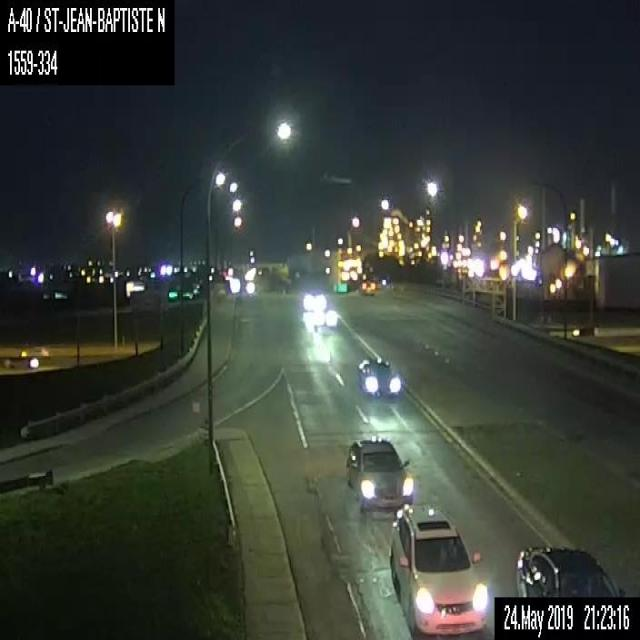vehicle: (389, 503, 487, 636), (511, 544, 626, 596), (347, 439, 412, 508), (357, 358, 402, 400), (358, 279, 376, 295)
